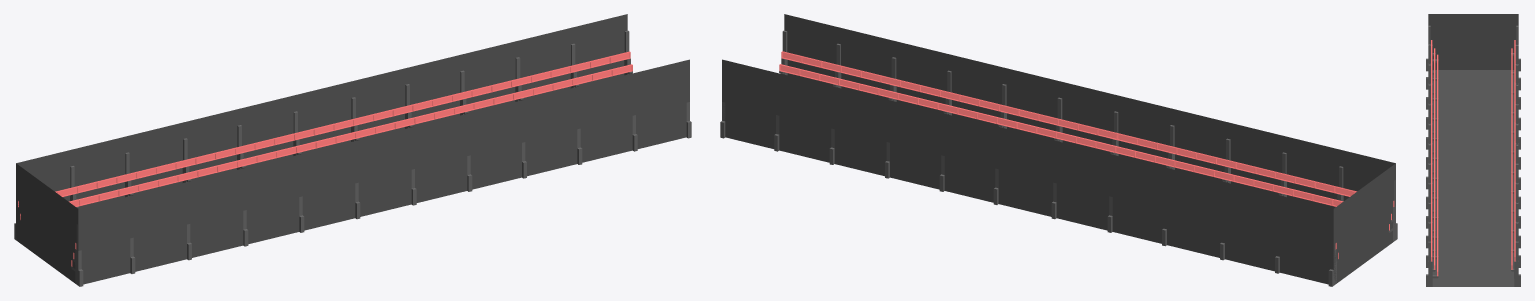
The model's file is 5p_1bay.glb.
3 views of the same model, side by side, from view 1: azimuth 30°, elevation 25°; view 2: azimuth 150°, elevation 25°; view 3: azimuth 270°, elevation 25° (orthographic). The views are drawn at different scales.
Visible parts, largest first — view 1: 5P_1Bay, 5P_1Bay_Rail009, 5P_1Bay_Pillar005; view 2: 5P_1Bay, 5P_1Bay_Rail009, 5P_1Bay_Pillar005; view 3: 5P_1Bay, 5P_1Bay_Pillar005, 5P_1Bay_Rail009.
Boxes of the visible parts, left/top/right/bottom form: 5P_1Bay: left=16, top=14, right=689, bottom=284; 5P_1Bay_Rail009: left=18, top=51, right=632, bottom=266; 5P_1Bay_Pillar005: left=14, top=30, right=691, bottom=286; 5P_1Bay: left=722, top=14, right=1395, bottom=284; 5P_1Bay_Rail009: left=779, top=51, right=1394, bottom=258; 5P_1Bay_Pillar005: left=720, top=30, right=1397, bottom=286; 5P_1Bay: left=1428, top=14, right=1518, bottom=286; 5P_1Bay_Pillar005: left=1426, top=25, right=1520, bottom=286; 5P_1Bay_Rail009: left=1431, top=40, right=1515, bottom=276.
Size of the model in its own units: 255 by 30.68 by 47.12.
